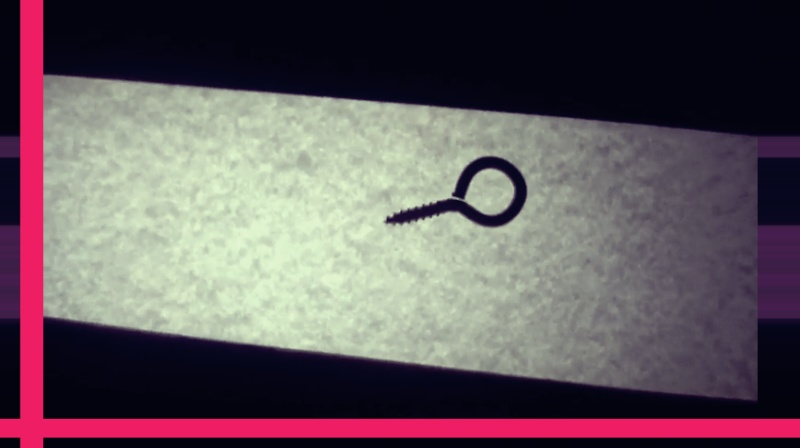O001: (380, 154, 529, 228)
